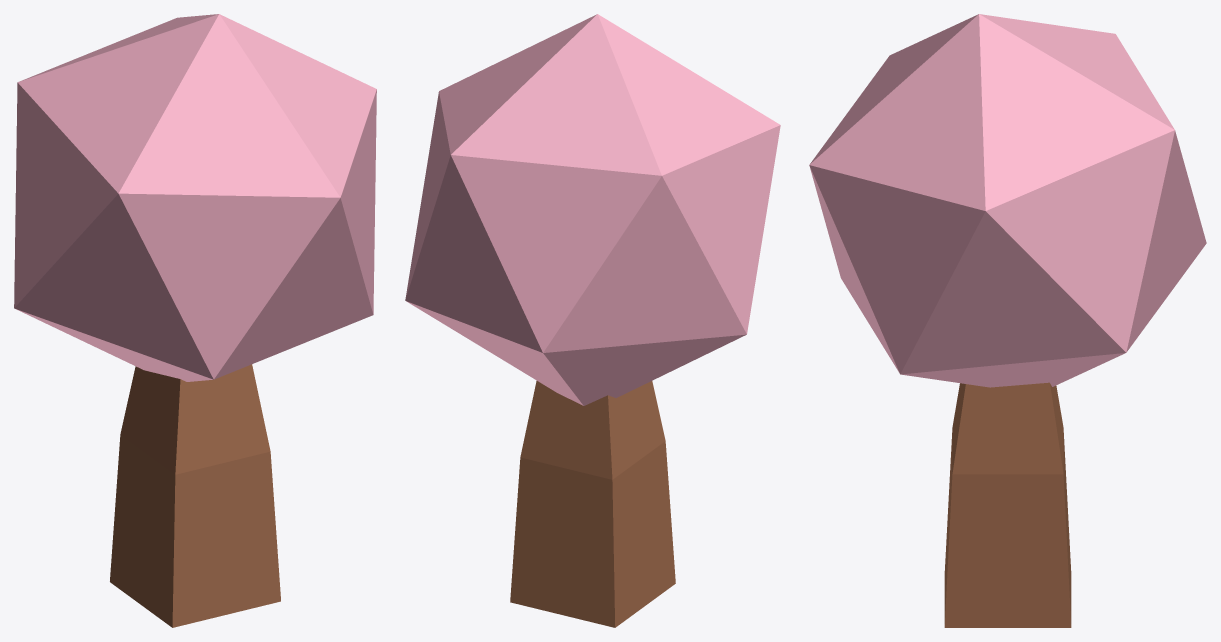
File: tree_pink_04.fbx
The picture shows the model from 3 angles, left to right: view 1: azimuth 30°, elevation 25°; view 2: azimuth 150°, elevation 25°; view 3: azimuth 270°, elevation 25°; orthographic projection. The views are drawn at different scales.
Visible parts, largest first — view 1: Icosphere.013, Cube.003; view 2: Icosphere.013, Cube.003; view 3: Icosphere.013, Cube.003.
Part boxes in pixels (left/top/right/bottom): Icosphere.013: left=14, top=14, right=376, bottom=381; Cube.003: left=110, top=364, right=280, bottom=627; Icosphere.013: left=405, top=14, right=780, bottom=405; Cube.003: left=510, top=381, right=675, bottom=627; Icosphere.013: left=809, top=14, right=1206, bottom=387; Cube.003: left=944, top=382, right=1071, bottom=627.
Size of the model in its own units: 542 by 891 by 542.
